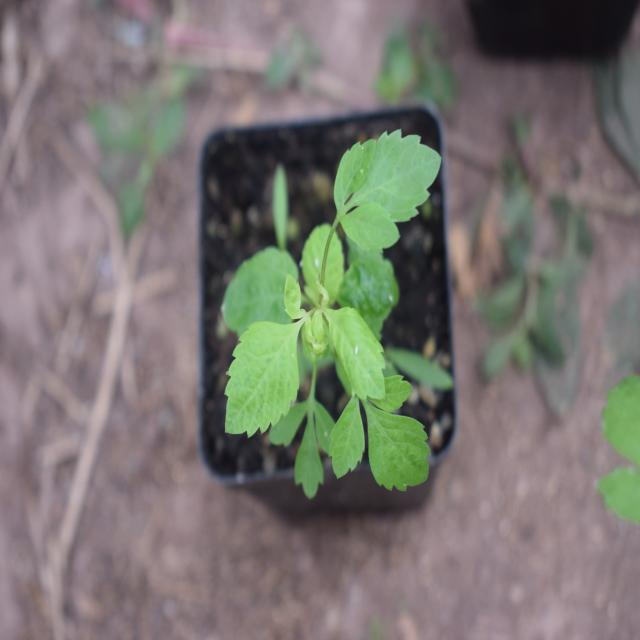Bidens pilosa: (209, 109, 449, 497)
